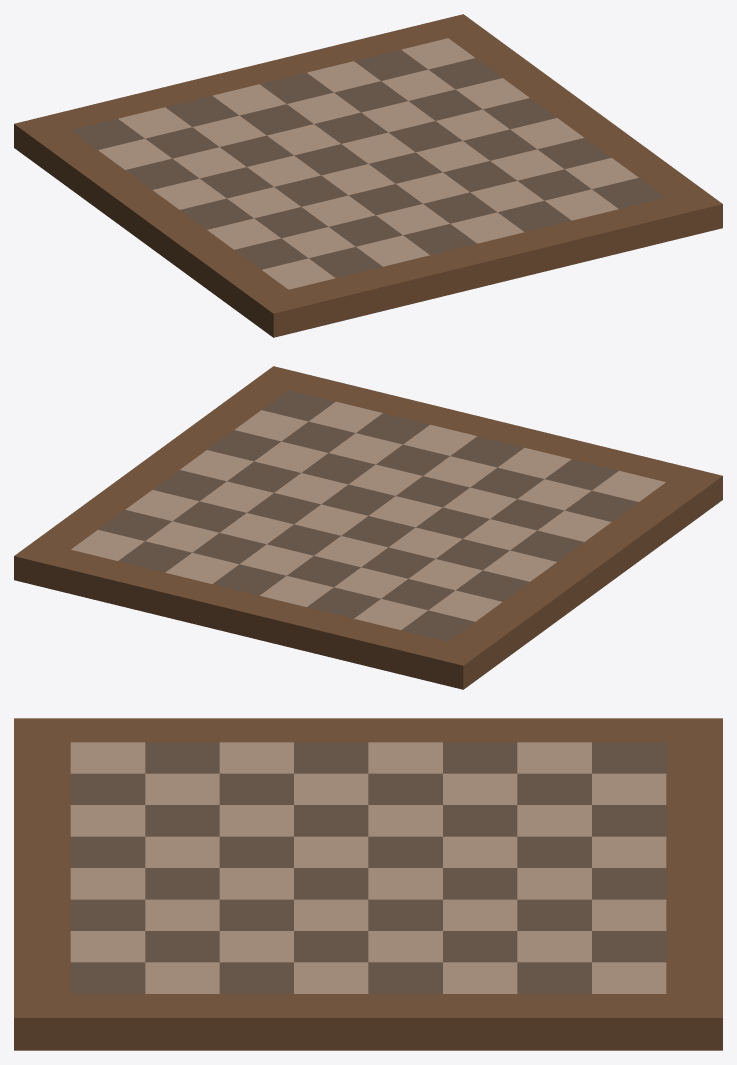
Rendered from Chess_board.fbx.
The picture shows the model from 3 angles, top to bottom: view 1: azimuth 30°, elevation 25°; view 2: azimuth 150°, elevation 25°; view 3: azimuth 270°, elevation 25°; orthographic projection. The views are drawn at different scales.
Parts seen in each view (by area): view 1: Chess_board; view 2: Chess_board; view 3: Chess_board.
Part boxes in pixels (x1,y1,x2,y2): Chess_board: [14, 14, 722, 337]; Chess_board: [14, 366, 722, 689]; Chess_board: [14, 718, 722, 1050].
Size of the model in its own units: 54.99 by 54.99 by 2.82.
